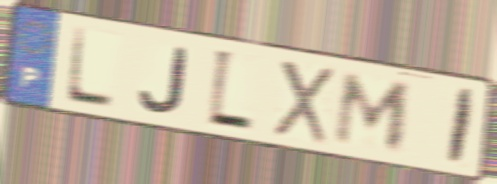I: (443, 85, 479, 169)
J: (136, 44, 191, 117)
L: (62, 24, 117, 112), (204, 44, 256, 137)
M: (330, 69, 416, 154)
X: (270, 56, 336, 148)
